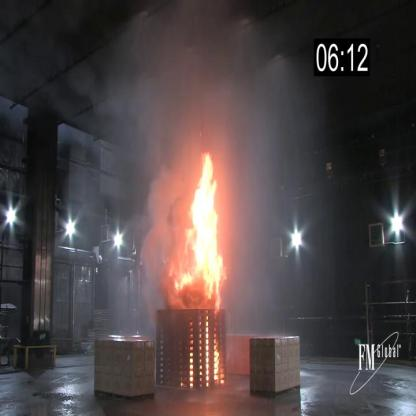fire: (172, 147, 228, 308), (215, 346, 219, 378)
